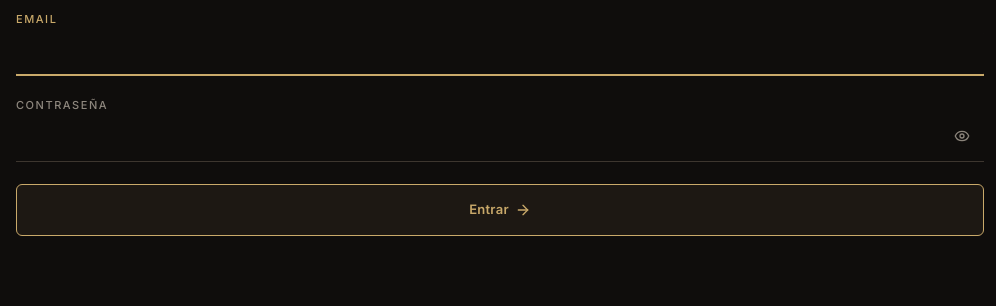
Test: formulario de login › con límite de intentos cuenta los segundos y bloquea el botón
Type "james@jamesfilm.pe" into the field labelled "Email".
click(500, 54); type("james@jamesfilm.pe")  # box [16,32,984,76]
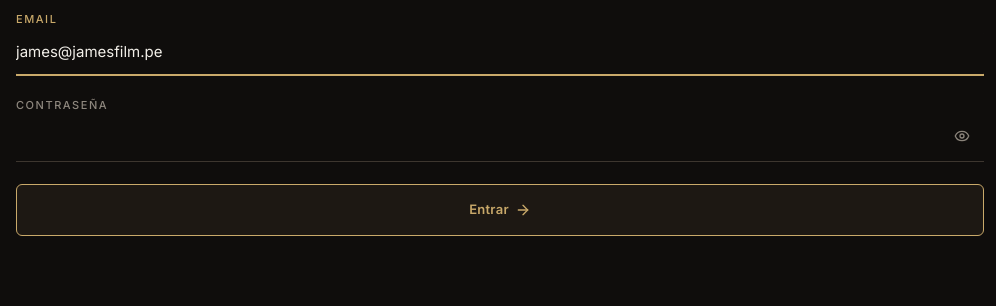
Type "una-clave-larga" into the password field labelled "Contraseña".
click(500, 140); type("una-clave-larga")  # box [16,118,984,162]
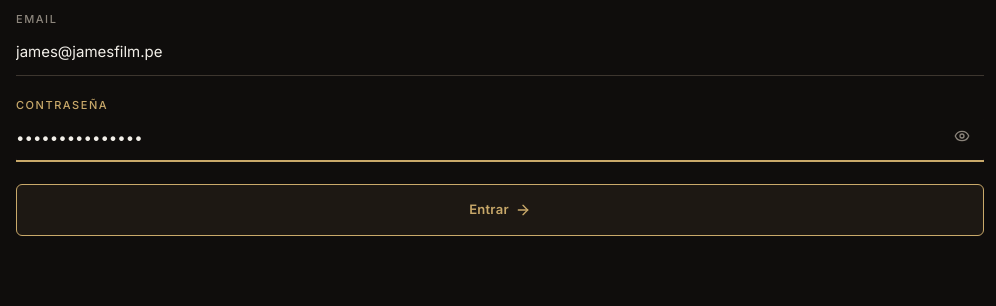
Click the button "Entrar".
click(500, 210)  # box [16,184,984,236]
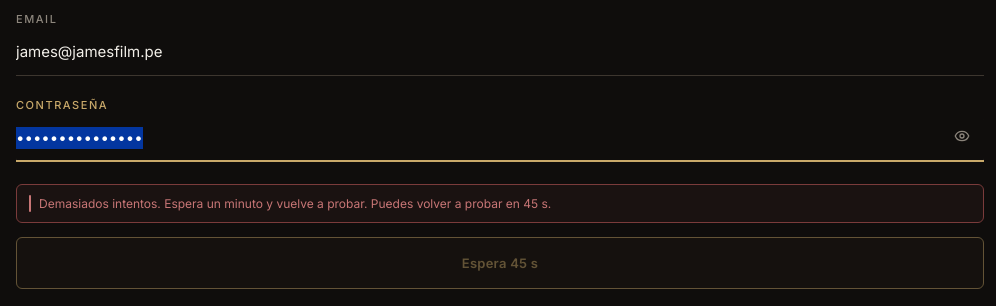
expect the button "Espera 45 s" is disabled: met, box [16,237,984,289]
expect the text "Puedes volver a probar en 45 s" is shown: met, box [39,196,551,211]
